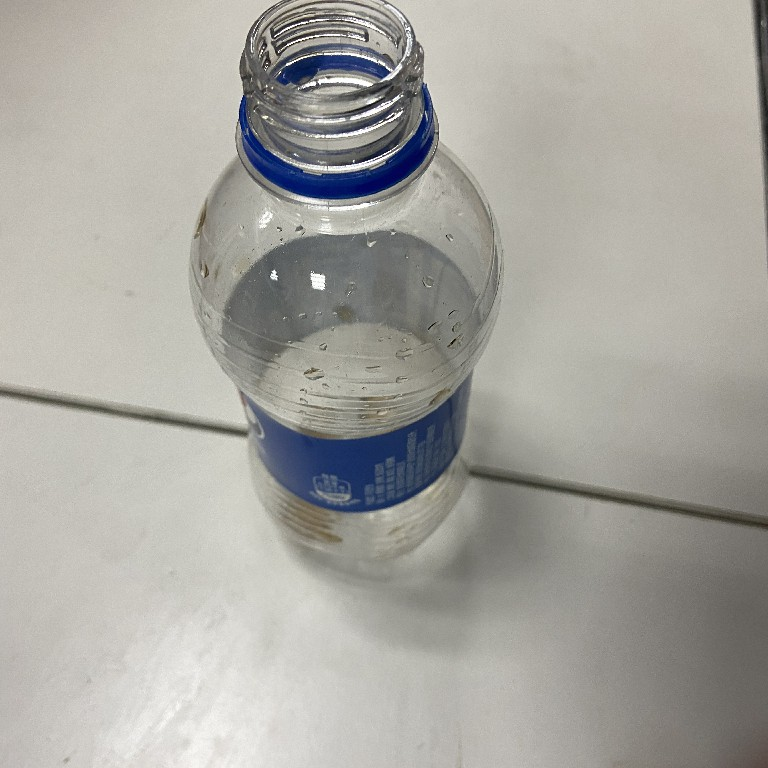bottle: (177, 1, 509, 567)
